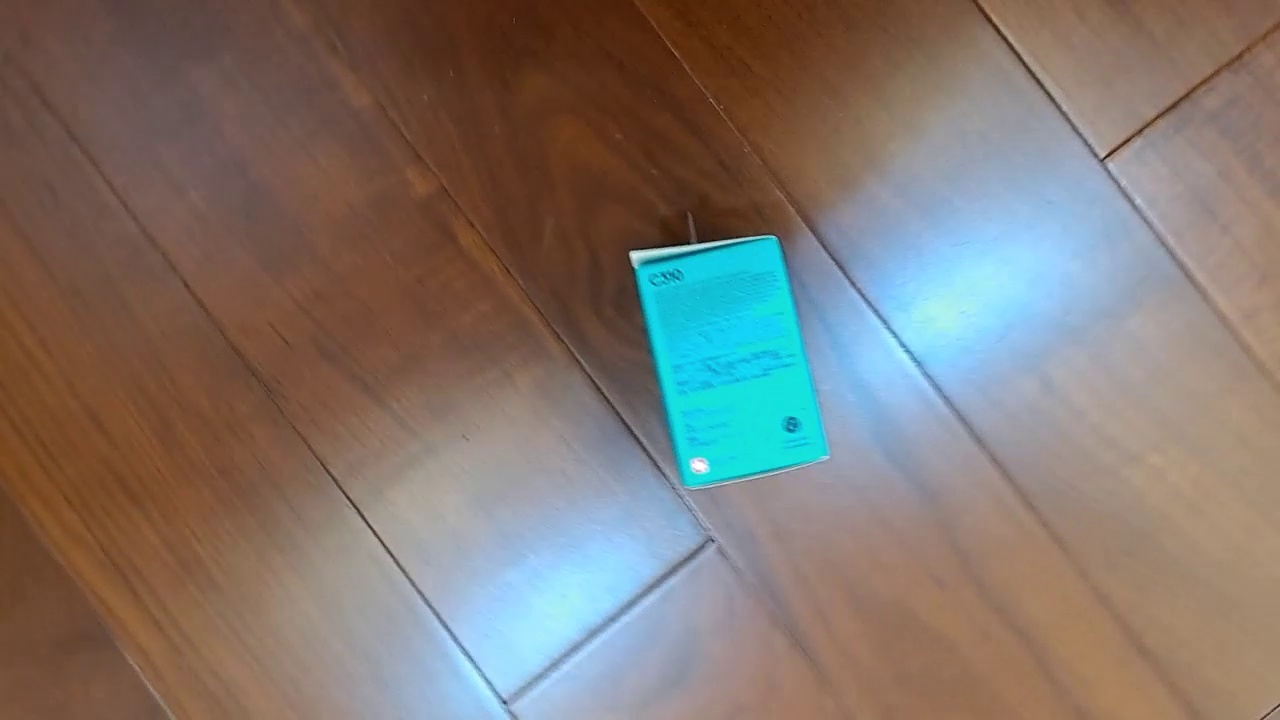webcam: (627, 233, 831, 491)
